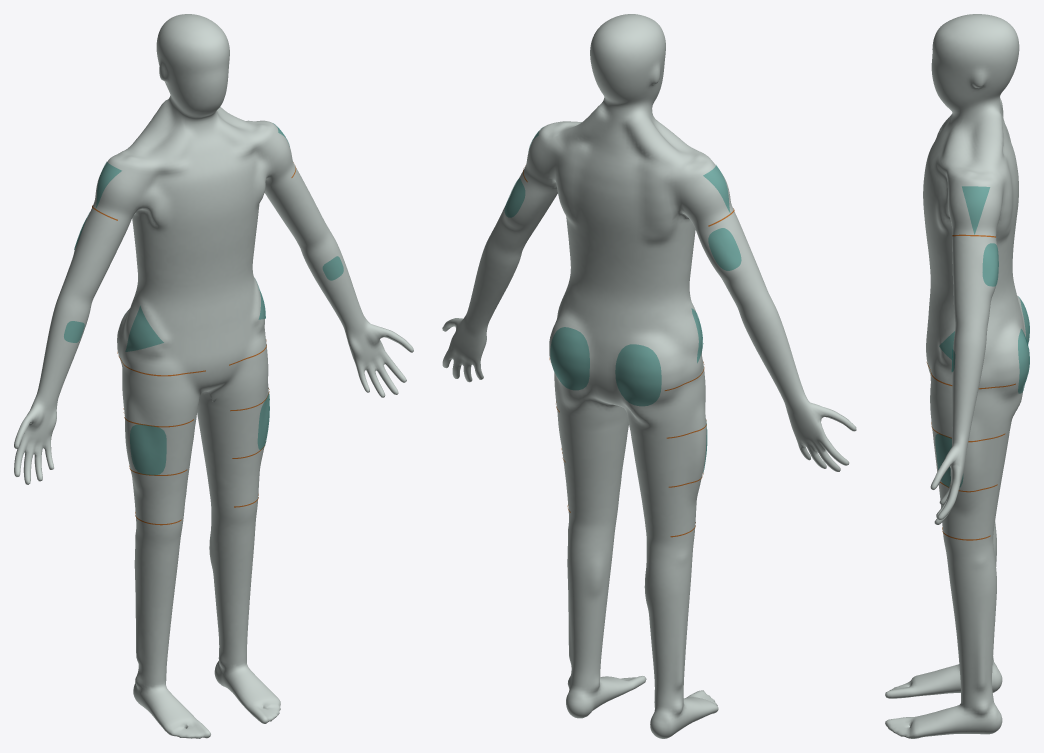
Rendered from adult.glb.
3 renders of one model, left to right at view 1: azimuth 30°, elevation 25°; view 2: azimuth 150°, elevation 25°; view 3: azimuth 270°, elevation 25°, orthographic. The views are drawn at different scales.
Visible parts, largest first — view 1: Adult_Body, Adult_Zone_VastusLateralis_R, Adult_Zone_Ventrogluteal_R; view 2: Adult_Body, Adult_Zone_Buttock_R, Adult_Zone_Buttock_L, Adult_Zone_Triceps_R; view 3: Adult_Body, Adult_Zone_Deltoid_L, Adult_Zone_Triceps_L, Adult_Zone_Buttock_L, Adult_Zone_VastusLateralis_L, Adult_Guide_ThighThirds_L.
Boxes of the visible parts, x1=… form: Adult_Body: x1=14, y1=14, x2=413, y2=738; Adult_Zone_VastusLateralis_R: x1=130, y1=424, x2=166, y2=475; Adult_Zone_Ventrogluteal_R: x1=125, y1=306, x2=163, y2=351; Adult_Body: x1=442, y1=14, x2=856, y2=738; Adult_Zone_Buttock_R: x1=615, y1=344, x2=661, y2=406; Adult_Zone_Buttock_L: x1=550, y1=327, x2=589, y2=390; Adult_Zone_Triceps_R: x1=708, y1=228, x2=741, y2=270; Adult_Body: x1=885, y1=14, x2=1029, y2=738; Adult_Zone_Deltoid_L: x1=962, y1=186, x2=989, y2=234; Adult_Zone_Triceps_L: x1=982, y1=243, x2=998, y2=286; Adult_Zone_Buttock_L: x1=1018, y1=329, x2=1029, y2=393; Adult_Zone_VastusLateralis_L: x1=935, y1=434, x2=963, y2=487; Adult_Guide_ThighThirds_L: x1=926, y1=362, x2=1015, y2=540.
Bounding box in the file's own units: 1.05 × 1.71 × 0.3222.
